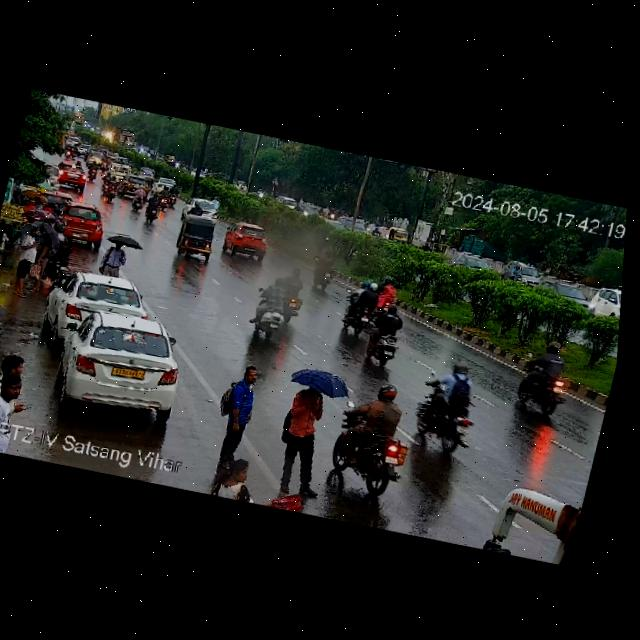bus: (475, 474, 586, 565)
car: (34, 301, 197, 423), (44, 266, 151, 340), (171, 214, 224, 263), (58, 202, 111, 245), (224, 223, 280, 262), (591, 276, 623, 320), (537, 279, 590, 305), (586, 283, 622, 321), (55, 161, 89, 191), (182, 196, 222, 220), (452, 252, 492, 276), (503, 259, 537, 285), (106, 158, 134, 180), (383, 224, 411, 245), (150, 174, 181, 192), (40, 164, 62, 189), (124, 174, 155, 190), (134, 166, 160, 180), (87, 149, 104, 166), (76, 140, 89, 158), (70, 142, 80, 159), (76, 141, 87, 156), (106, 151, 122, 160), (94, 143, 109, 152), (67, 136, 79, 146), (65, 147, 72, 160)
motorcycle: (324, 379, 419, 505), (409, 356, 490, 460), (510, 332, 577, 416), (363, 302, 412, 368), (336, 280, 387, 338), (249, 275, 293, 337), (462, 531, 528, 558), (278, 263, 308, 319), (309, 243, 340, 290), (140, 196, 167, 223), (152, 185, 182, 209), (508, 262, 528, 283), (104, 175, 120, 201), (86, 159, 102, 182), (99, 169, 112, 195), (99, 153, 111, 174), (296, 203, 310, 216), (421, 240, 433, 251), (211, 196, 220, 210), (327, 208, 338, 219), (372, 226, 380, 236), (256, 185, 263, 196), (362, 222, 370, 231), (319, 207, 325, 216)
person: (269, 383, 341, 502), (214, 360, 271, 447), (6, 225, 43, 297), (205, 463, 263, 503), (0, 369, 33, 428), (28, 227, 56, 291), (96, 238, 133, 277), (0, 350, 30, 388), (21, 196, 34, 212), (32, 195, 46, 209), (25, 215, 35, 224)
